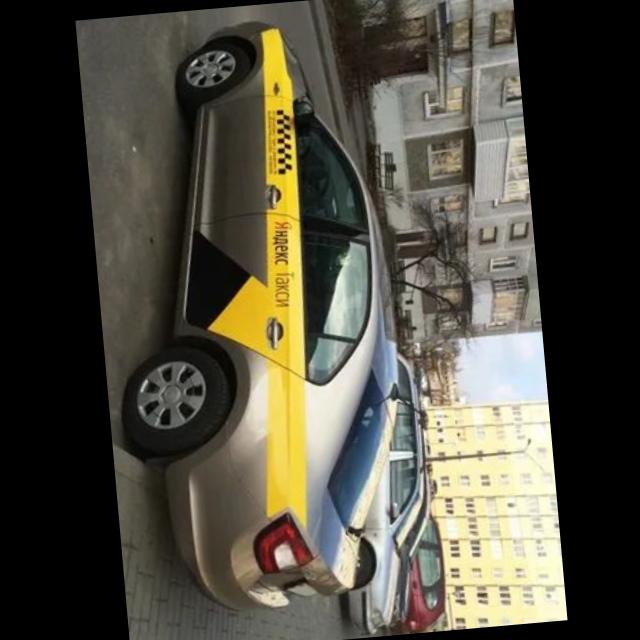taxi: (88, 11, 421, 622)
